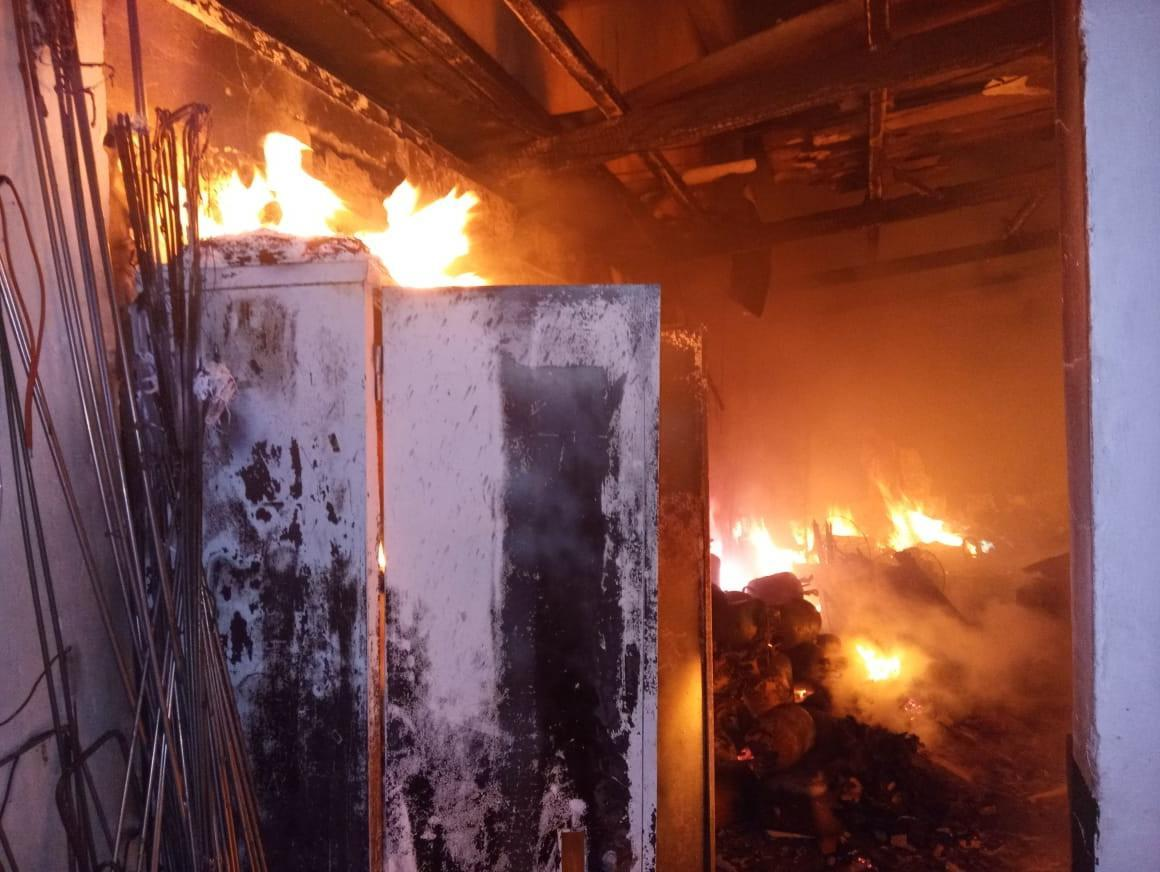Fire: (177, 142, 502, 282), (711, 514, 818, 600), (881, 491, 1002, 553), (855, 633, 927, 682), (822, 506, 866, 540)
